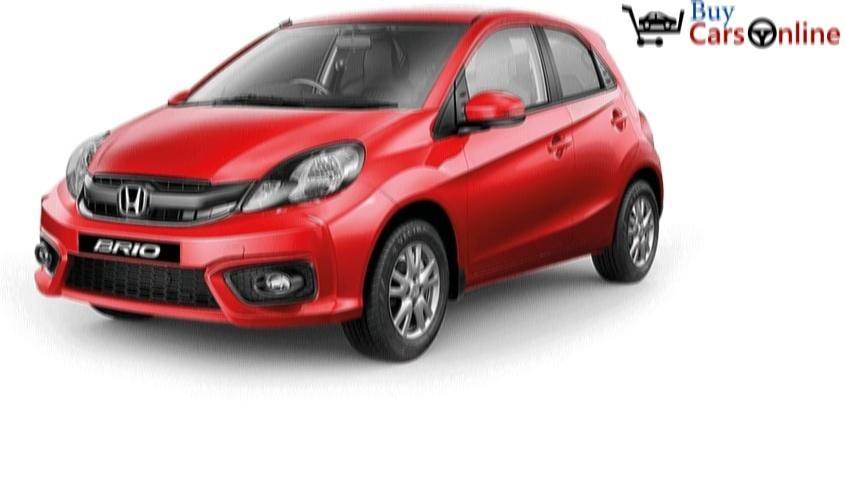Car hood: (79, 103, 424, 184)
Fender - -F-L-: (352, 106, 467, 301)
Front bumper: (30, 181, 399, 326)
Headlight - -L-: (242, 139, 366, 214)
Headlight - -R-: (64, 132, 110, 204)
Passenger-s door - -F-L-: (455, 8, 582, 297)
Passenger-s door - -R-L-: (535, 5, 638, 272)
Side bumper - -L-: (454, 220, 619, 305)
Side mirror - -L-: (451, 90, 529, 133)
